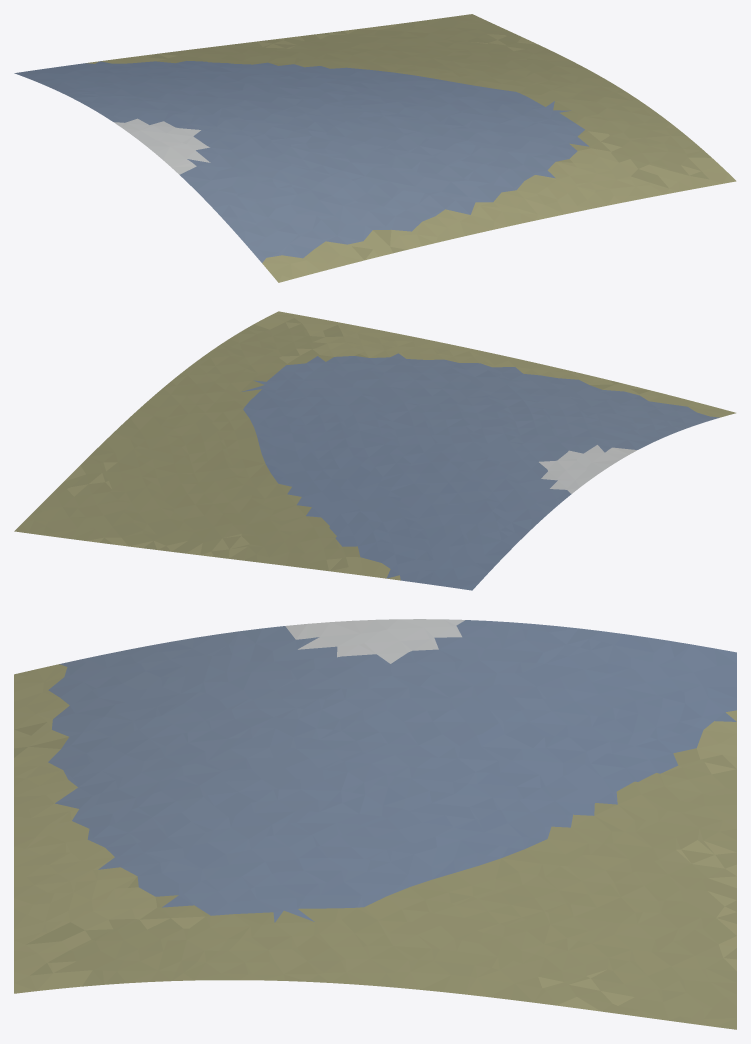
The model's file is Ground_-2_-10.glb.
3 renders of one model, top to bottom at view 1: azimuth 30°, elevation 25°; view 2: azimuth 150°, elevation 25°; view 3: azimuth 270°, elevation 25°, orthographic. The views are drawn at different scales.
Visible parts, largest first — view 1: Ground_-2_-10; view 2: Ground_-2_-10; view 3: Ground_-2_-10.
Part boxes in pixels (x1=…): Ground_-2_-10: x1=14, y1=14, x2=736, y2=282; Ground_-2_-10: x1=14, y1=311, x2=735, y2=590; Ground_-2_-10: x1=14, y1=619, x2=736, y2=1029.
Bounding box in the file's own units: 768 × 123 × 768.
